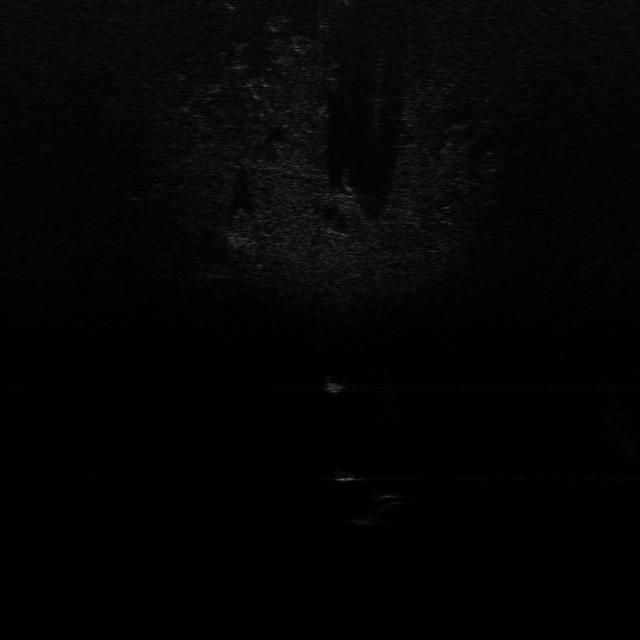cube: (348, 491, 412, 527), (330, 466, 360, 484)
square cage: (319, 374, 347, 394)
